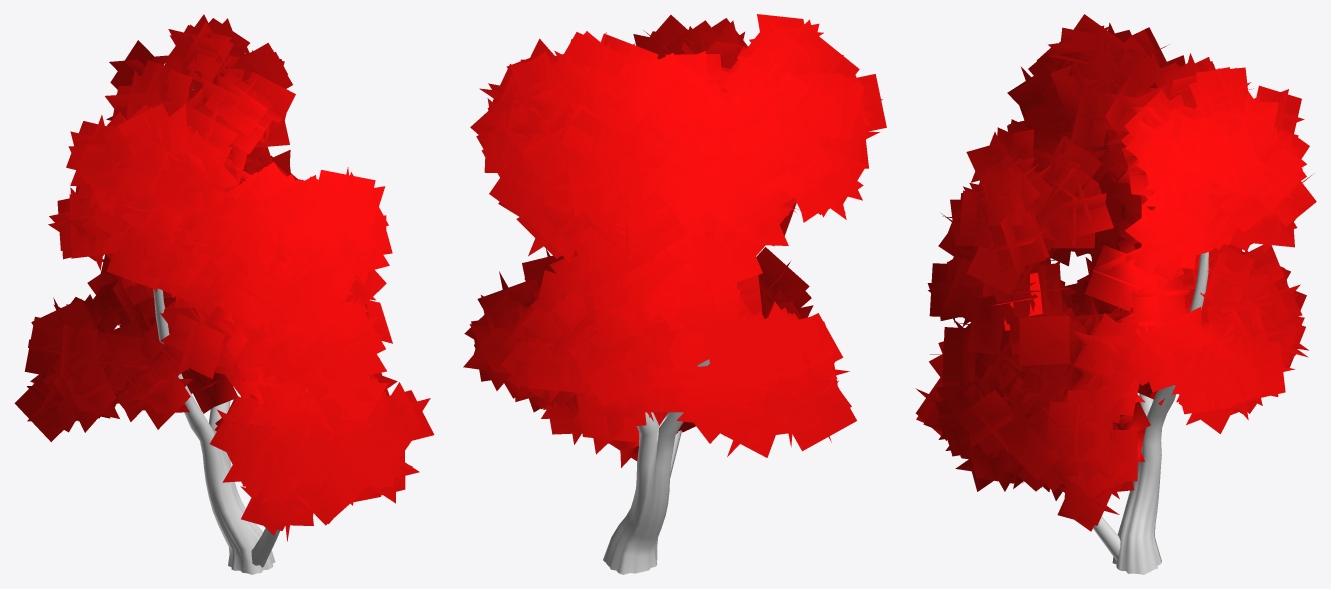
File: SM_TreeTower_04.fbx
The picture shows the model from 3 angles, left to right: view 1: azimuth 30°, elevation 25°; view 2: azimuth 150°, elevation 25°; view 3: azimuth 270°, elevation 25°; orthographic projection. The views are drawn at different scales.
Parts seen in each view (by area): view 1: SM_TreeTower_04_LOD0; view 2: SM_TreeTower_04_LOD0; view 3: SM_TreeTower_04_LOD0.
Boxes of the visible parts, x1,y1,x2,y2 form: SM_TreeTower_04_LOD0: (14, 14, 434, 574); SM_TreeTower_04_LOD0: (463, 14, 886, 574); SM_TreeTower_04_LOD0: (915, 14, 1316, 574).
Size of what is drawn, in the model's own units: 8.32 by 12.64 by 9.24.
